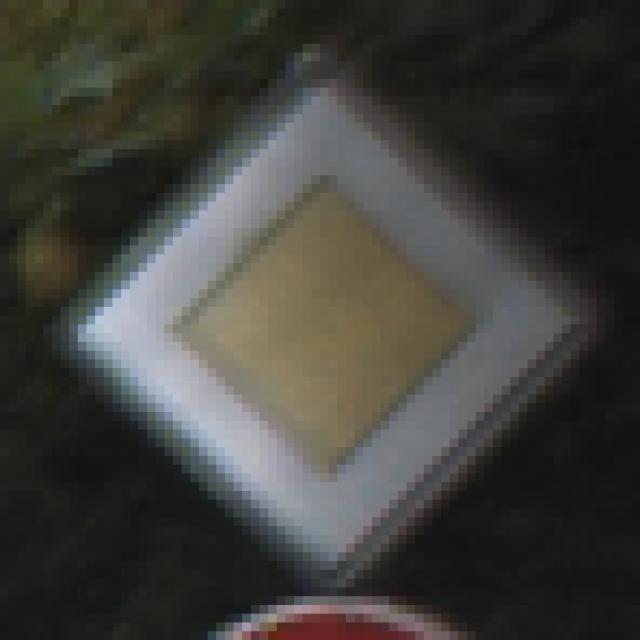Main Road: (53, 63, 589, 589)
